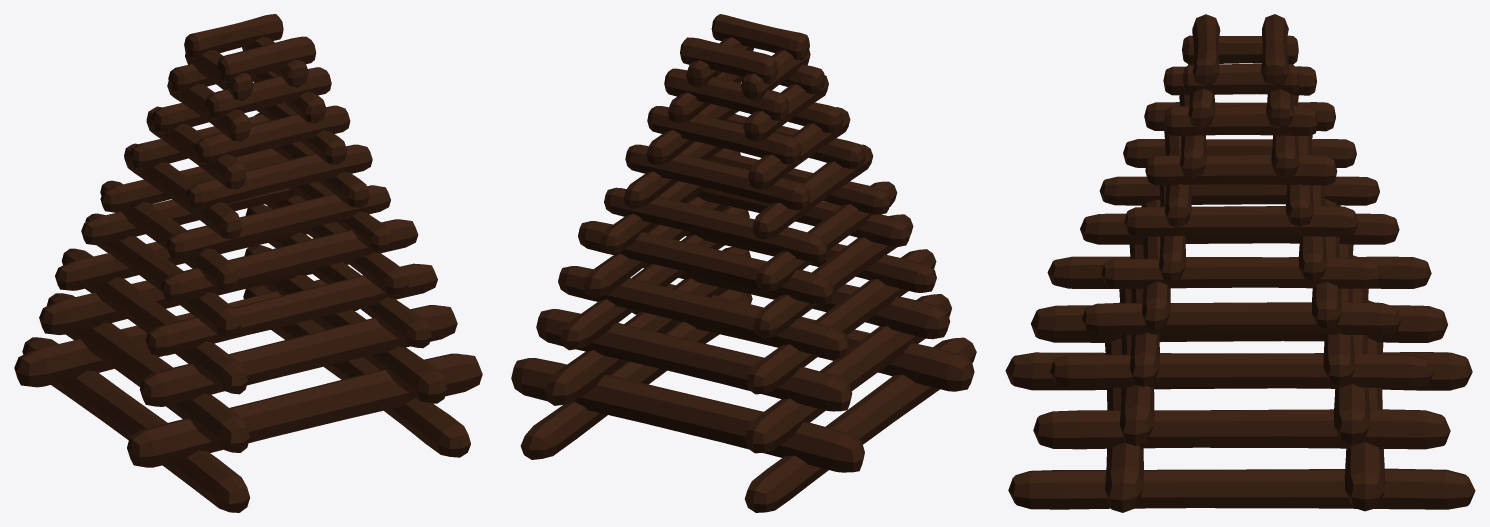
Rendered from strawman_base.fbx.
3 views of the same model, side by side, from view 1: azimuth 30°, elevation 25°; view 2: azimuth 150°, elevation 25°; view 3: azimuth 270°, elevation 25° (orthographic). The views are drawn at different scales.
Parts seen in each view (by area): view 1: Cube.034; view 2: Cube.034; view 3: Cube.034.
Part boxes in pixels (box(x1,y1,x2,y2)): Cube.034: box(14, 14, 482, 512); Cube.034: box(511, 14, 976, 512); Cube.034: box(1005, 14, 1475, 512).
Size of the model in its own units: 1026 by 1054 by 1080.
